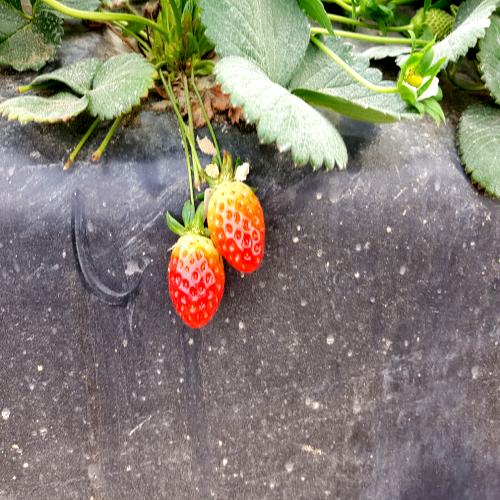ripe: (206, 171, 282, 281), (170, 234, 228, 330)
